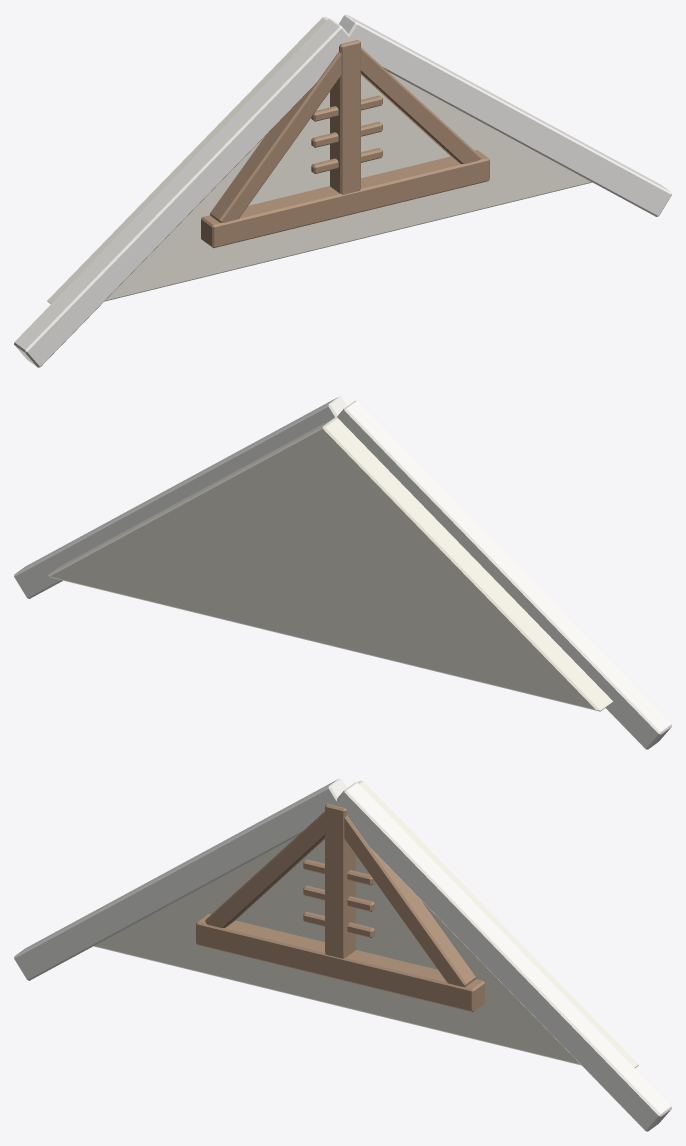
The model's file is SM_Roof_GableEnd.fbx.
3 renders of one model, top to bottom at view 1: azimuth 30°, elevation 25°; view 2: azimuth 150°, elevation 25°; view 3: azimuth 330°, elevation 25°, orthographic.
Visible parts, largest first — view 1: Roof_GableEnd; view 2: Roof_GableEnd; view 3: Roof_GableEnd.
Boxes of the visible parts, bbox=[...] form: Roof_GableEnd: bbox=[14, 14, 671, 367]; Roof_GableEnd: bbox=[14, 396, 671, 749]; Roof_GableEnd: bbox=[14, 778, 671, 1131].
Size of the model in its own units: 465 by 184 by 36.
